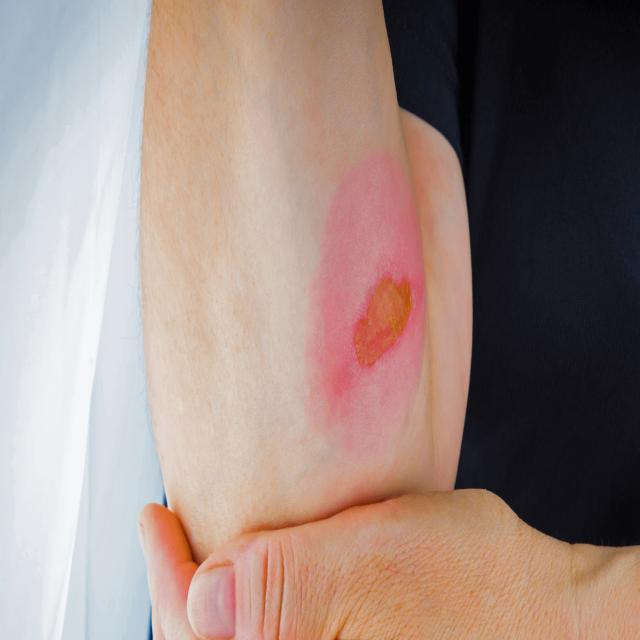stage-2: (352, 278, 410, 369)
